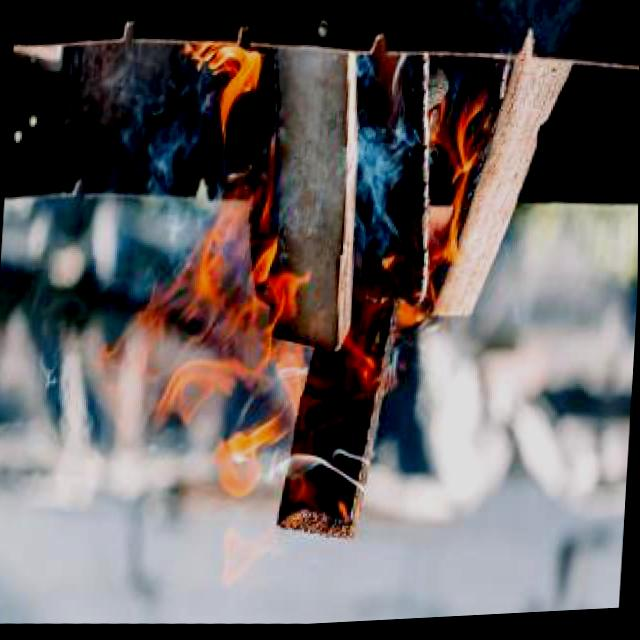helmet: (107, 27, 499, 520)
